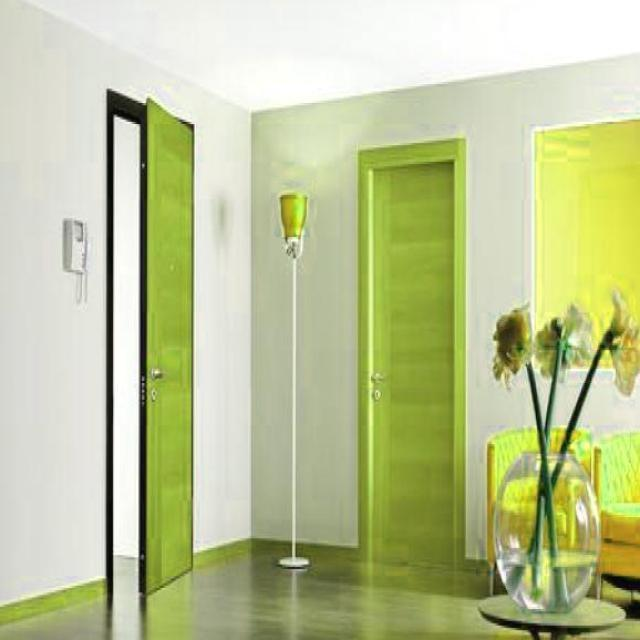door: (355, 110, 483, 606), (134, 90, 198, 593)
